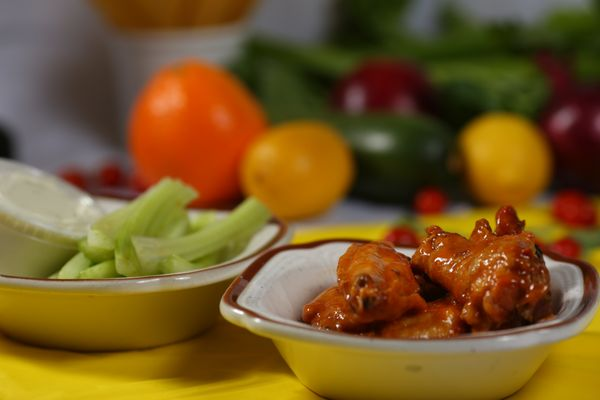sushi: (220, 209, 599, 396), (0, 158, 290, 353)
taco: (124, 57, 270, 210), (237, 119, 360, 220), (452, 109, 556, 206)
